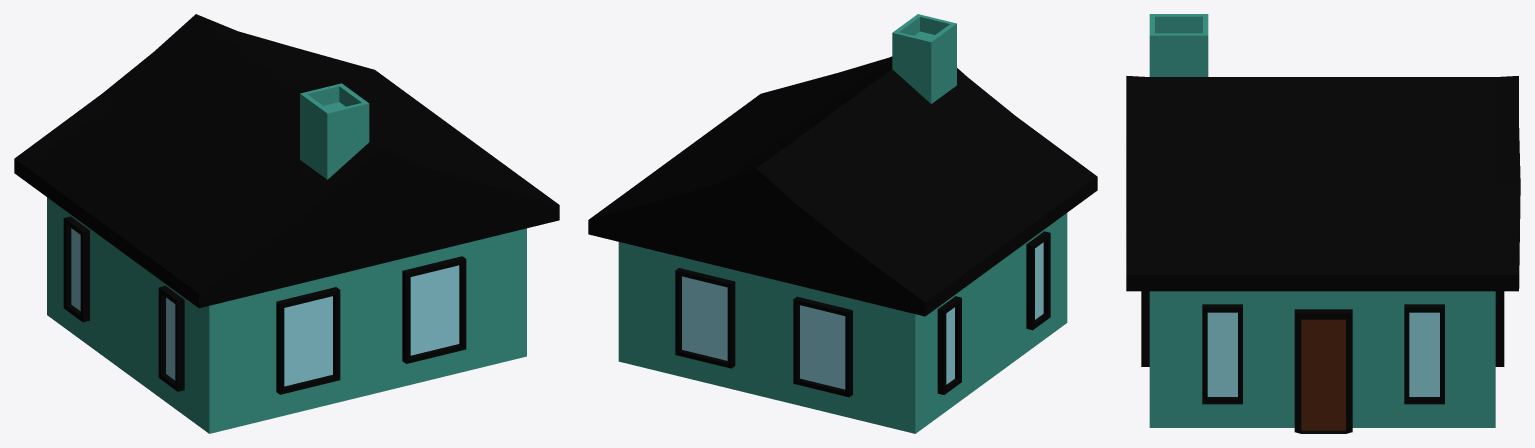
Rendered from Houses06.fbx.
3 renders of one model, left to right at view 1: azimuth 30°, elevation 25°; view 2: azimuth 150°, elevation 25°; view 3: azimuth 270°, elevation 25°, orthographic. The views are drawn at different scales.
Parts seen in each view (by area): view 1: Plane.003; view 2: Plane.003; view 3: Plane.003.
Boxes of the visible parts, box(x1,y1,x2,y2) form: Plane.003: box(14, 14, 559, 433); Plane.003: box(588, 14, 1097, 433); Plane.003: box(1126, 14, 1520, 433).
Bounding box in the file's own units: 400 × 311 × 356.
